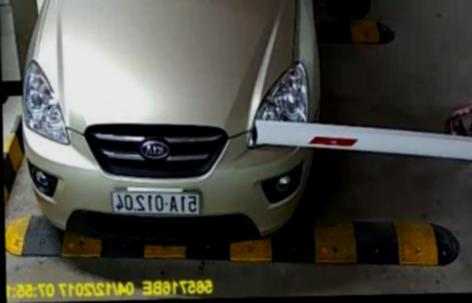License_Plate: (108, 185, 205, 218)
